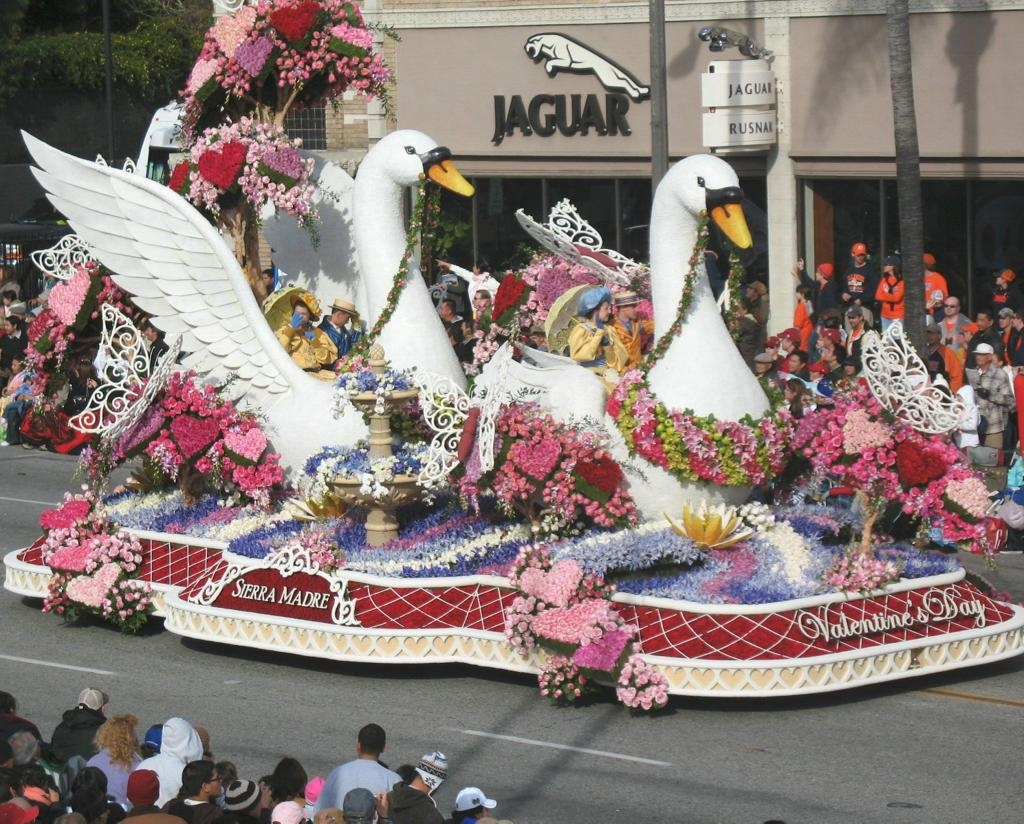human_face: (204, 768, 222, 796), (620, 298, 638, 318), (334, 308, 350, 326), (246, 797, 260, 817), (596, 301, 610, 321), (294, 305, 308, 325), (476, 802, 488, 820), (977, 312, 989, 330), (995, 272, 1007, 290), (975, 349, 989, 364), (824, 345, 838, 360), (755, 358, 769, 372), (783, 383, 795, 399), (789, 355, 801, 371), (780, 333, 792, 348), (944, 301, 956, 315), (847, 312, 859, 326), (438, 303, 450, 317), (530, 330, 542, 344), (926, 328, 936, 344), (472, 292, 482, 308), (854, 247, 864, 262), (844, 362, 856, 374), (808, 368, 820, 380), (764, 342, 776, 354), (458, 322, 470, 334), (998, 314, 1008, 328), (10, 359, 20, 373), (990, 351, 998, 366), (883, 259, 893, 271), (816, 268, 826, 280), (260, 273, 270, 285), (146, 327, 156, 339), (2, 293, 12, 305), (1010, 312, 1018, 326), (822, 331, 830, 345), (5, 320, 13, 334), (746, 286, 756, 296), (472, 262, 480, 272), (26, 312, 34, 322), (956, 394, 964, 402), (796, 290, 804, 298)
